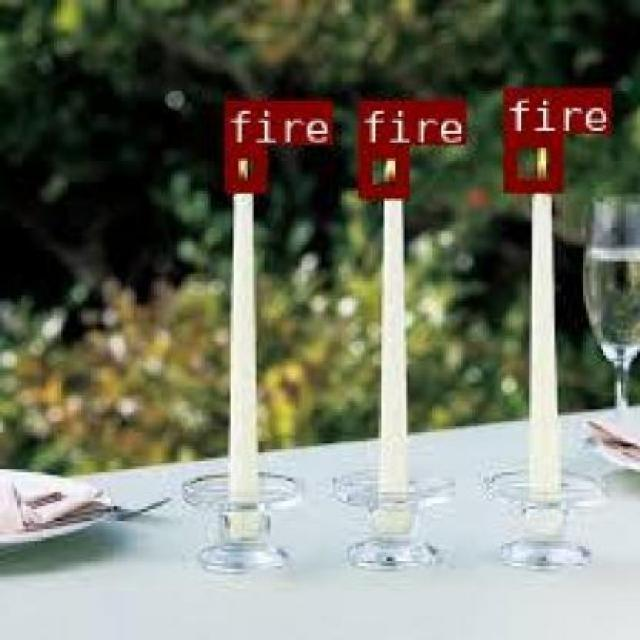fire: (502, 134, 561, 190), (356, 142, 407, 195), (224, 144, 264, 189)
